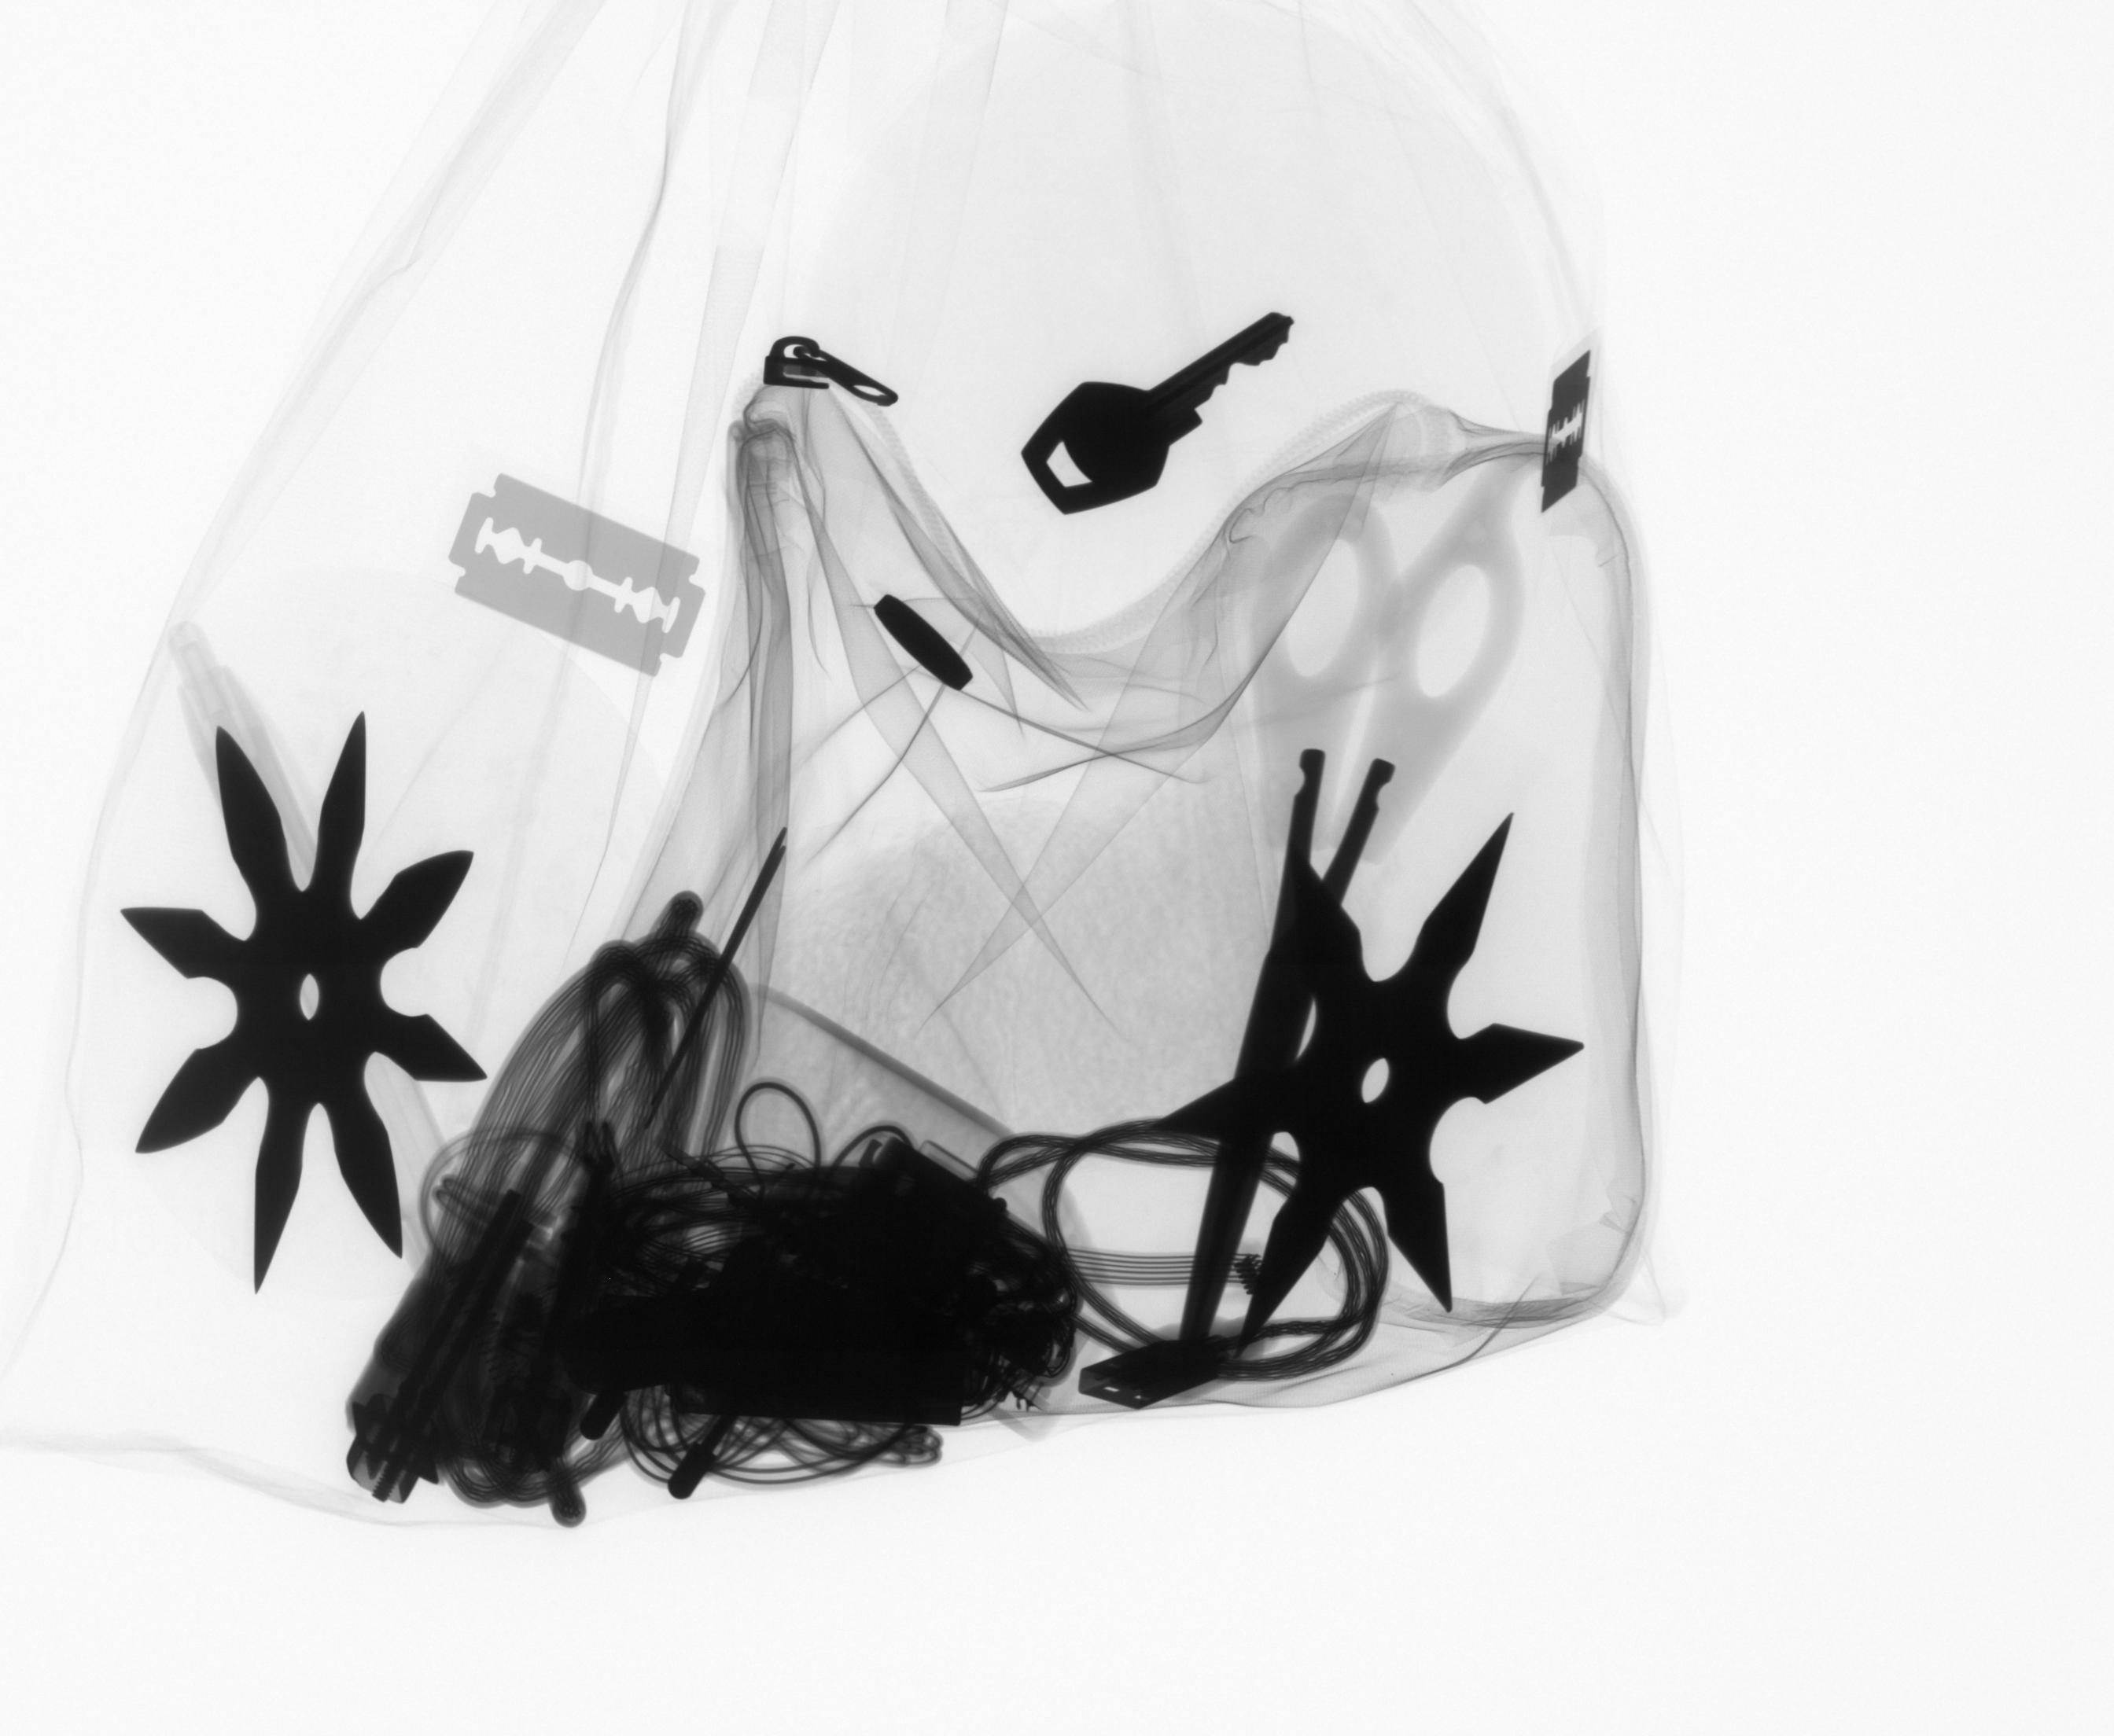RazorBlade: (432, 465, 713, 686), (1526, 342, 1603, 528)
Shuriken: (1157, 804, 1591, 1371), (111, 706, 495, 1304)
